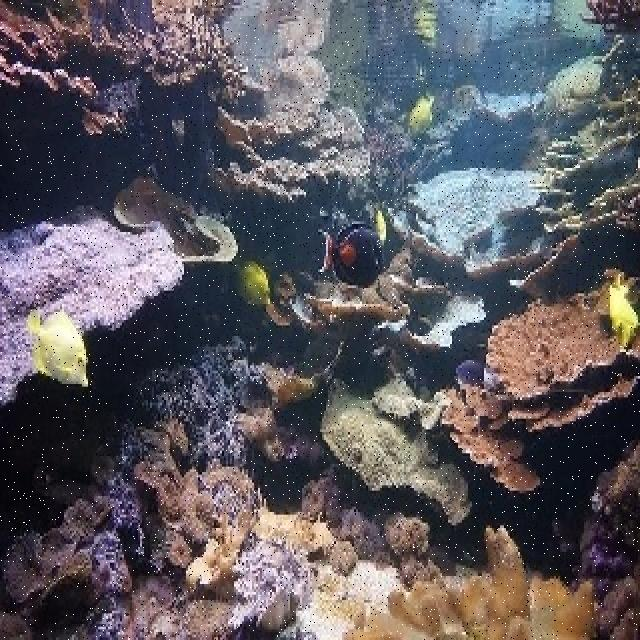fish: (25, 305, 88, 386), (316, 220, 384, 288), (229, 251, 270, 303)
